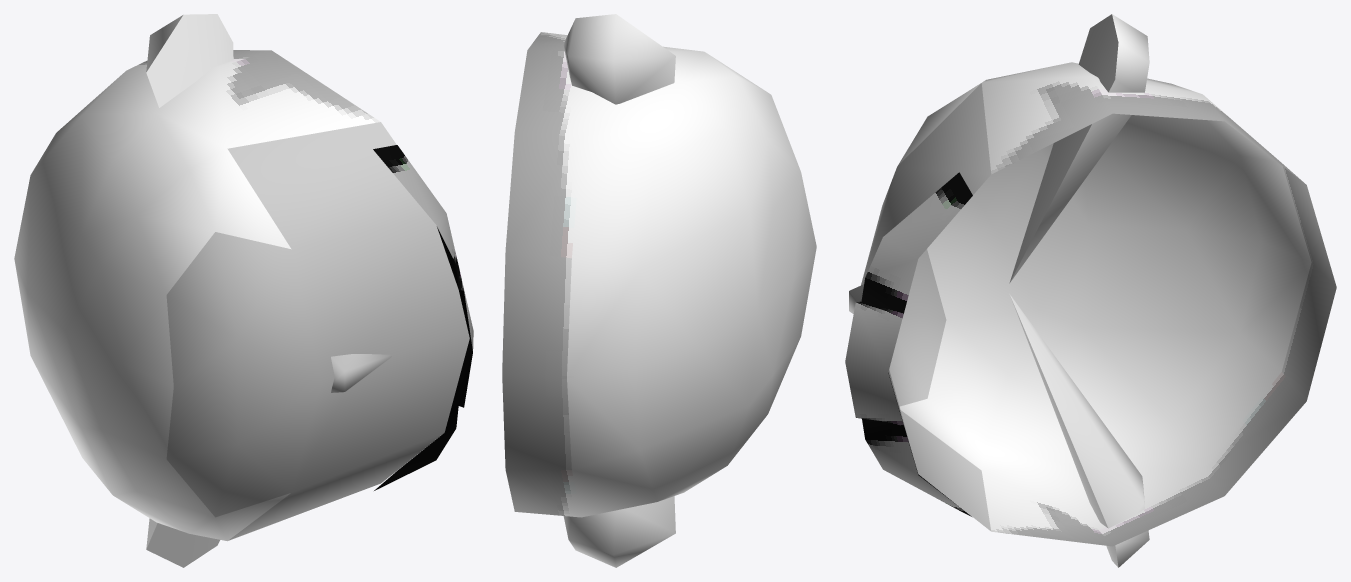
The model's file is girl04b.dae.
The picture shows the model from 3 angles, left to right: view 1: azimuth 30°, elevation 25°; view 2: azimuth 150°, elevation 25°; view 3: azimuth 270°, elevation 25°; orthographic projection.
Visible parts, largest first — view 1: vsn_mesh_0_, vsn_mesh_2_, vsn_mesh_1_; view 2: vsn_mesh_0_; view 3: vsn_mesh_0_, vsn_mesh_2_, vsn_mesh_1_.
Part boxes in pixels (x1,y1,x2,y2): vsn_mesh_0_: [14, 14, 473, 567]; vsn_mesh_2_: [227, 122, 469, 540]; vsn_mesh_1_: [166, 232, 321, 517]; vsn_mesh_0_: [502, 14, 816, 567]; vsn_mesh_0_: [845, 14, 1336, 567]; vsn_mesh_2_: [849, 83, 991, 531]; vsn_mesh_1_: [861, 168, 946, 406].
Size of the model in its own units: 15.5 by 26.71 by 21.76.
3 materials, 1 textured.
